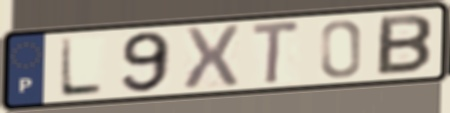0: (317, 18, 363, 80)
9: (119, 30, 175, 95)
B: (374, 13, 435, 78)
L: (57, 36, 106, 99)
T: (249, 18, 303, 88)
X: (181, 23, 242, 94)
